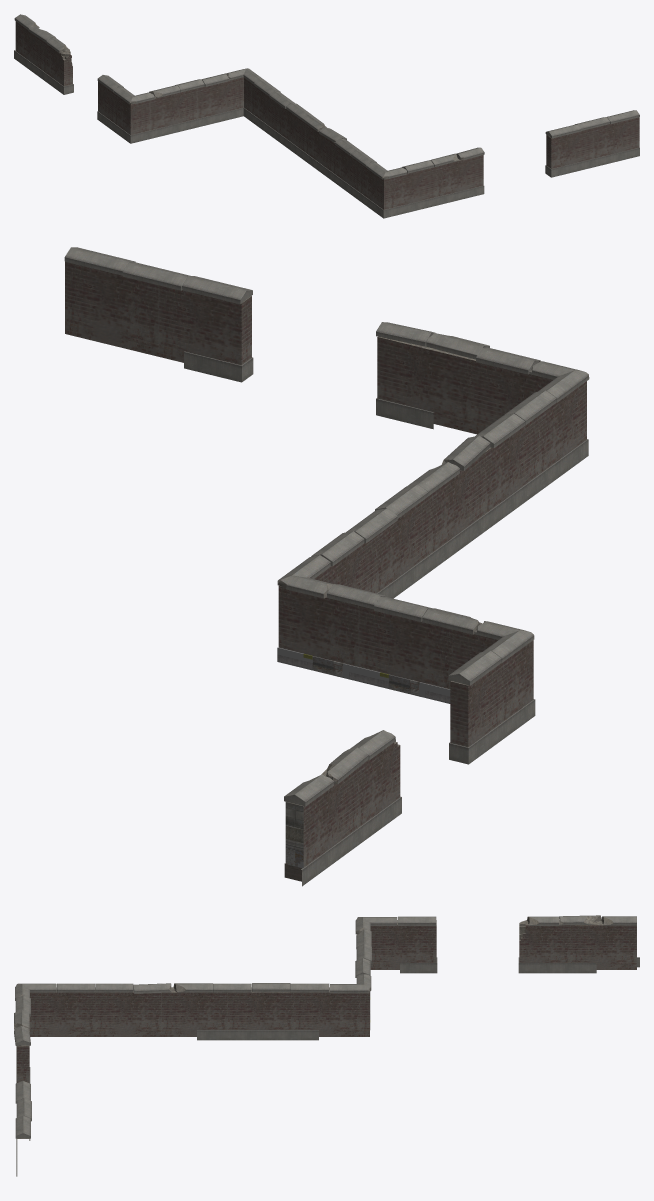
Rendered from Cemetery_STR_InnerWall_02.fbx.
3 renders of one model, top to bottom at view 1: azimuth 30°, elevation 25°; view 2: azimuth 150°, elevation 25°; view 3: azimuth 270°, elevation 25°, orthographic. The views are drawn at different scales.
Parts seen in each view (by area): view 1: Cemetery_STR_InnerWall_02; view 2: Cemetery_STR_InnerWall_02; view 3: Cemetery_STR_InnerWall_02.
Part boxes in pixels (x1,y1,x2,y2): Cemetery_STR_InnerWall_02: (14,14,639,218); Cemetery_STR_InnerWall_02: (64,247,589,886); Cemetery_STR_InnerWall_02: (14,915,639,1176).
Bounding box in the file's own units: 1639 × 189 × 1969.
1 material, 1 textured.
